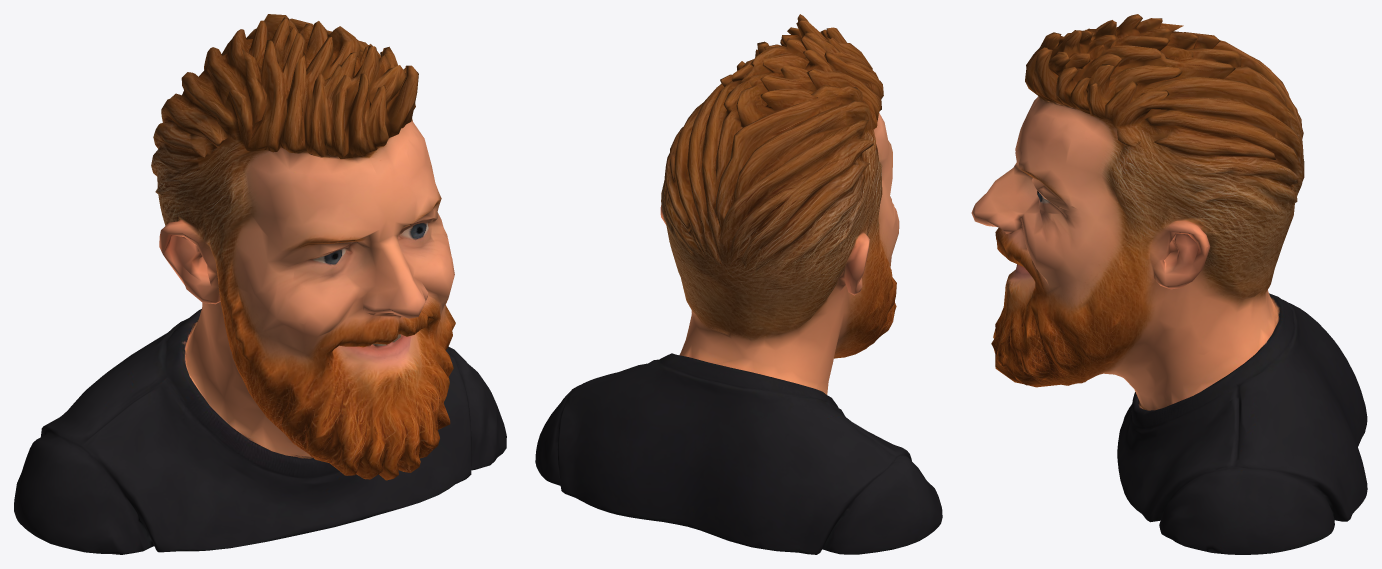
Rendered from mark-clay-source.glb.
3 renders of one model, left to right at view 1: azimuth 30°, elevation 25°; view 2: azimuth 150°, elevation 25°; view 3: azimuth 270°, elevation 25°, orthographic. The views are drawn at different scales.
Visible parts, largest first — view 1: tripo_node_70e85899-e9d6-41e9-8891-1a755fa41e40; view 2: tripo_node_70e85899-e9d6-41e9-8891-1a755fa41e40; view 3: tripo_node_70e85899-e9d6-41e9-8891-1a755fa41e40.
Boxes of the visible parts, x1=… form: tripo_node_70e85899-e9d6-41e9-8891-1a755fa41e40: x1=14, y1=14, x2=506, y2=554; tripo_node_70e85899-e9d6-41e9-8891-1a755fa41e40: x1=535, y1=14, x2=942, y2=554; tripo_node_70e85899-e9d6-41e9-8891-1a755fa41e40: x1=971, y1=14, x2=1367, y2=554.
Size of the model in its own units: 0.9803 by 1 by 0.8268.
1 material, 1 textured.
